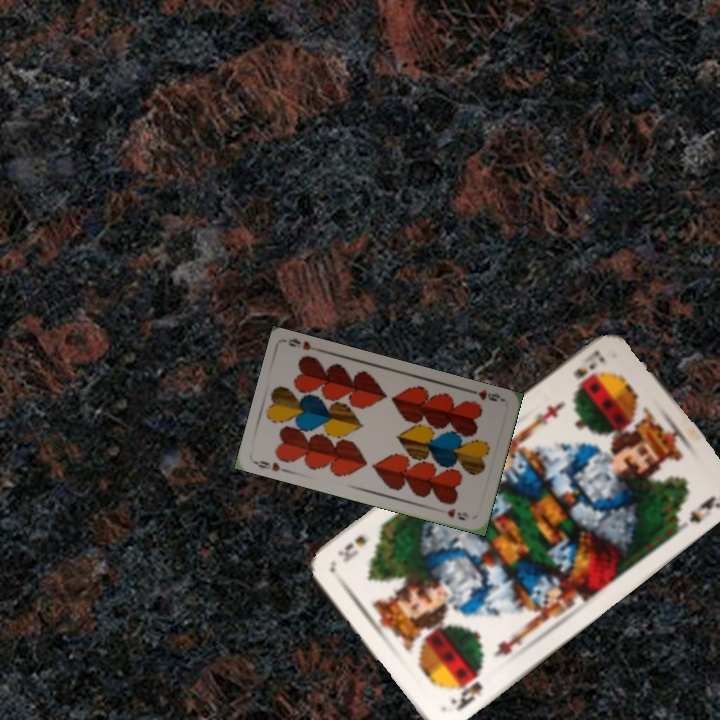H9: (250, 456, 291, 475), (465, 385, 505, 404)
SK: (446, 665, 486, 714), (568, 346, 608, 382)
